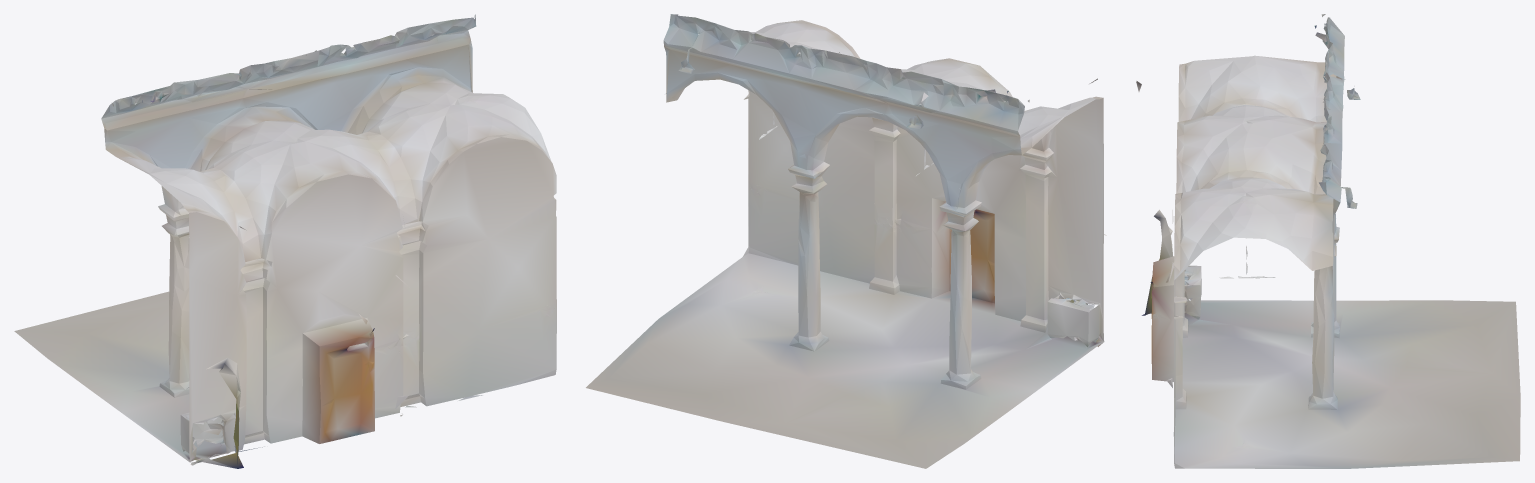
3 views of the same model, side by side, from view 1: azimuth 30°, elevation 25°; view 2: azimuth 150°, elevation 25°; view 3: azimuth 270°, elevation 25° (orthographic). The views are drawn at different scales.
Size of the model in its own units: 10.04 by 8.12 by 9.64.
